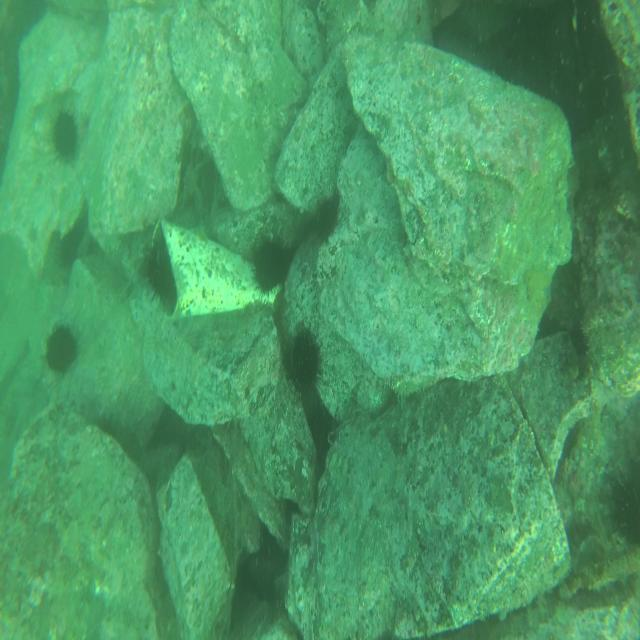echinus: (286, 316, 324, 397), (250, 232, 296, 295), (144, 239, 185, 309), (611, 458, 640, 551), (40, 320, 80, 379), (49, 108, 84, 171)
